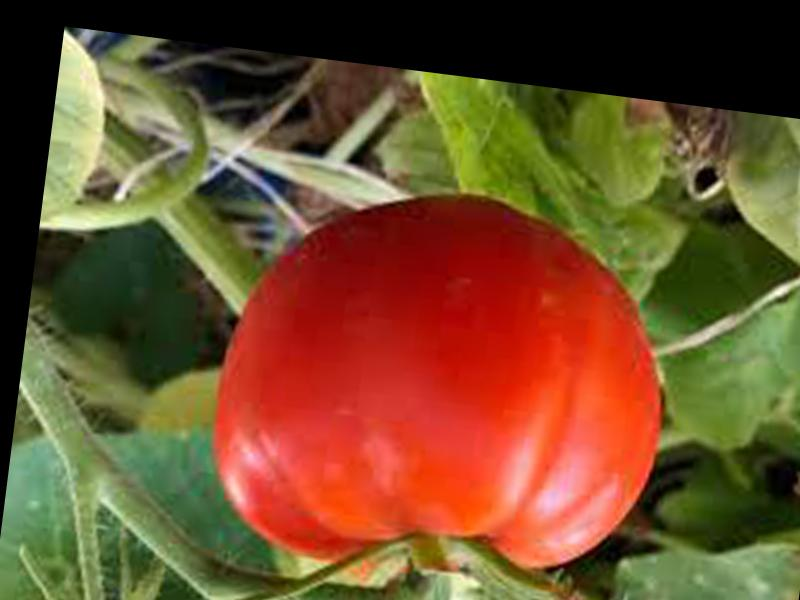Tomato: (195, 171, 685, 598)
